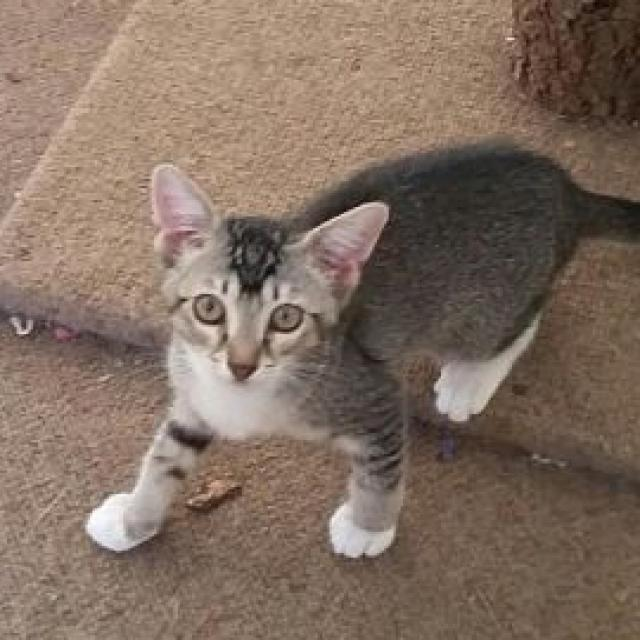Abyssinian: (83, 134, 640, 572)
